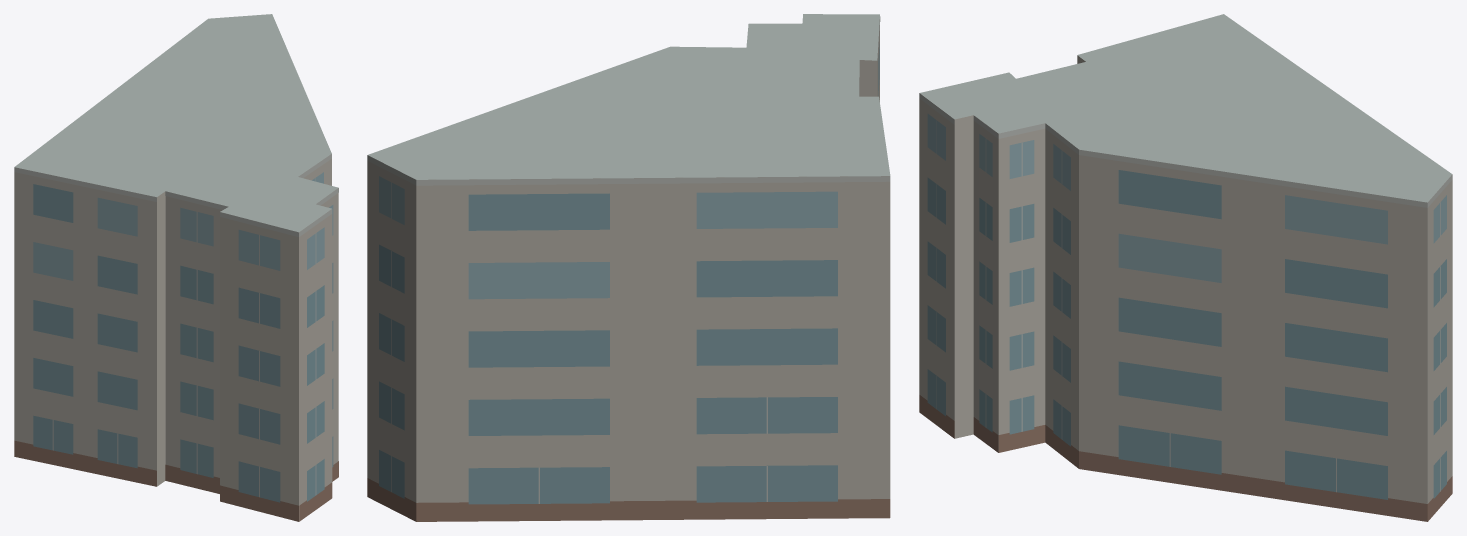
The model's file is survey-upis-32690962.glb.
3 views of the same model, side by side, from view 1: azimuth 30°, elevation 25°; view 2: azimuth 150°, elevation 25°; view 3: azimuth 270°, elevation 25° (orthographic). The views are drawn at different scales.
Parts seen in each view (by area): view 1: survey-upis-32690962.tmp; view 2: survey-upis-32690962.tmp; view 3: survey-upis-32690962.tmp.
Part boxes in pixels (x1=…): survey-upis-32690962.tmp: x1=14, y1=14, x2=338, y2=521; survey-upis-32690962.tmp: x1=367, y1=14, x2=890, y2=521; survey-upis-32690962.tmp: x1=919, y1=14, x2=1452, y2=521.
Bounding box in the file's own units: 18.44 × 14.55 × 22.02.
